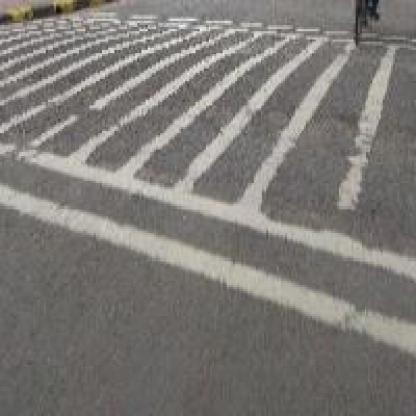Speed Bump: (0, 0, 348, 346)
